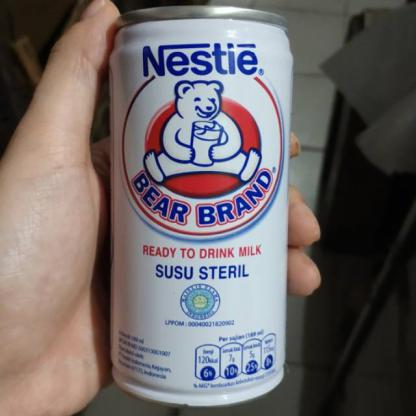can: (102, 2, 298, 416)
